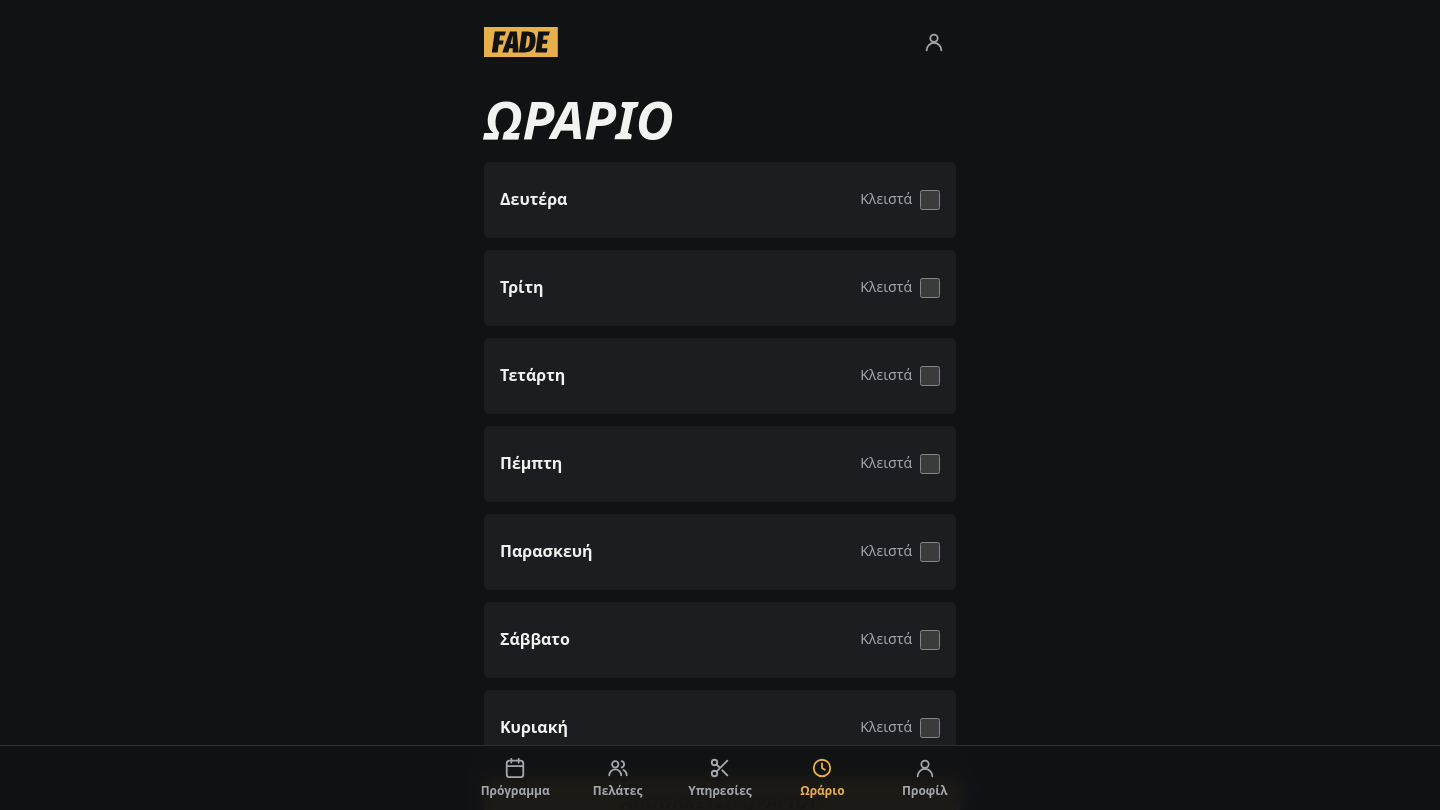
Test: saves a week with a split shift
The width and height of the screenshot is (1440, 810).
# A split day: 09:00–14:00, then "+ Προσθήκη ωρών" for the afternoon.
Click the switch named "Τρίτη: Ανοιχτά" at x=930, y=288, box [920,278,940,298]
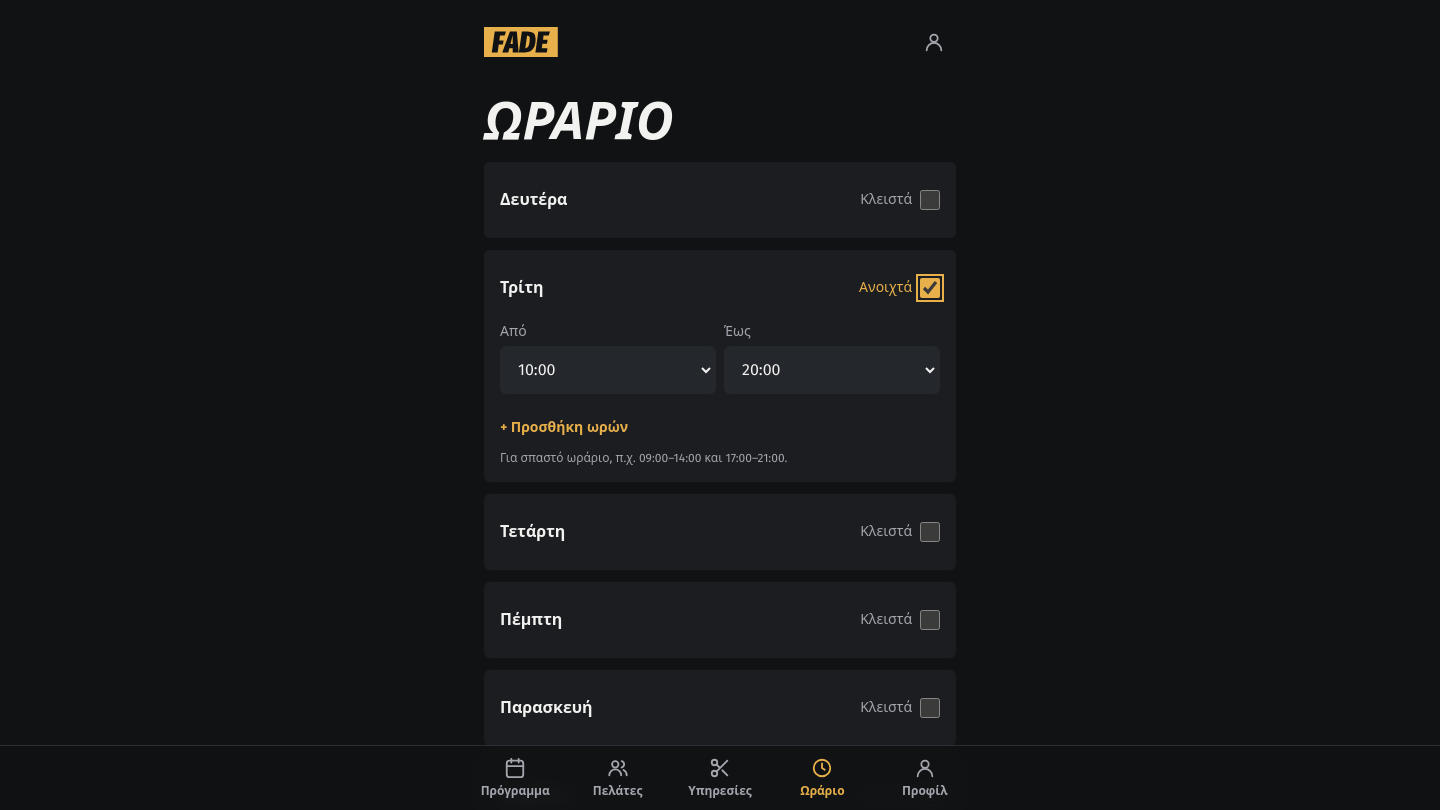
Select "09:00" in the dropdown labelled "Από" at x=608, y=370, box [500,346,716,394]
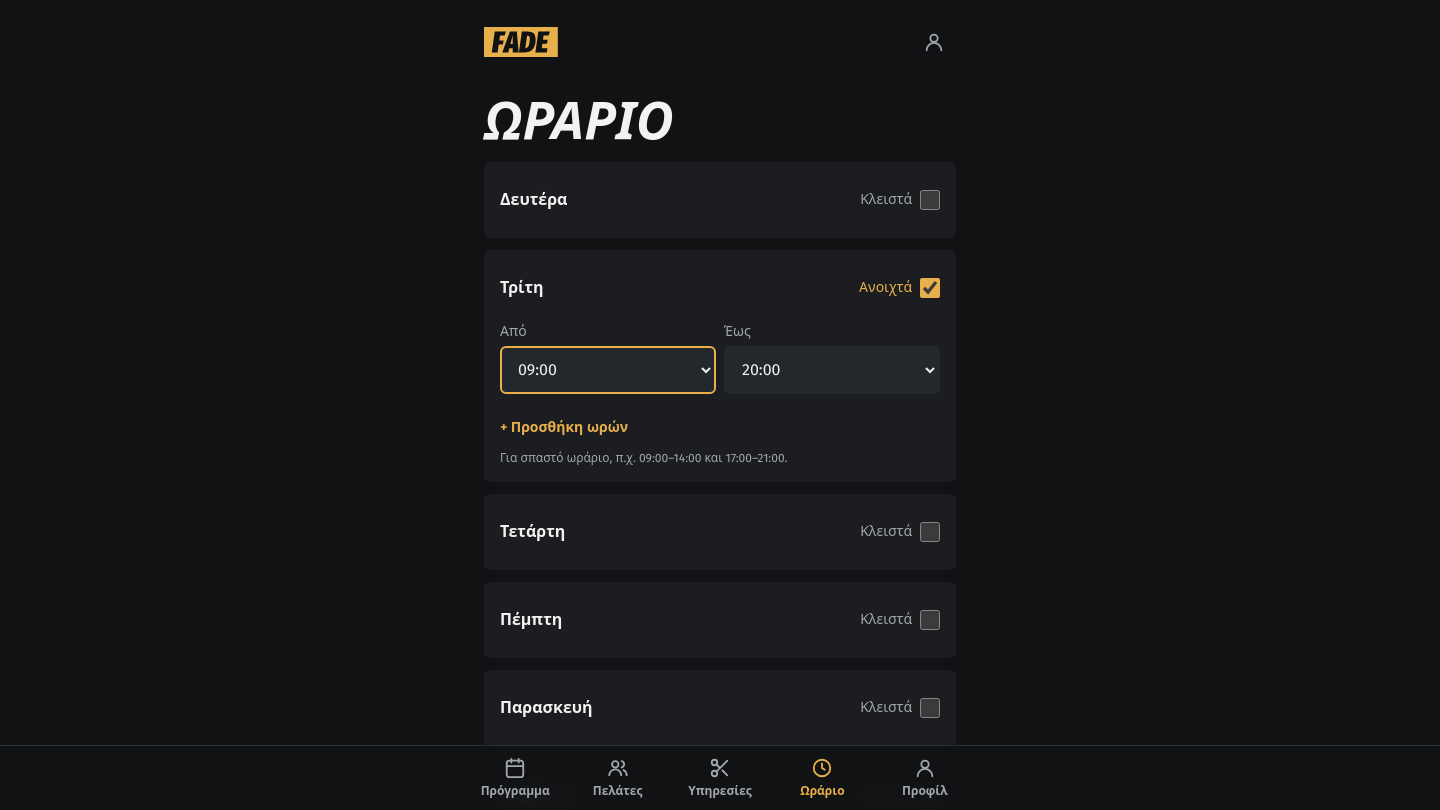
Select "14:00" in the dropdown labelled "Έως" at x=832, y=370, box [724,346,940,394]
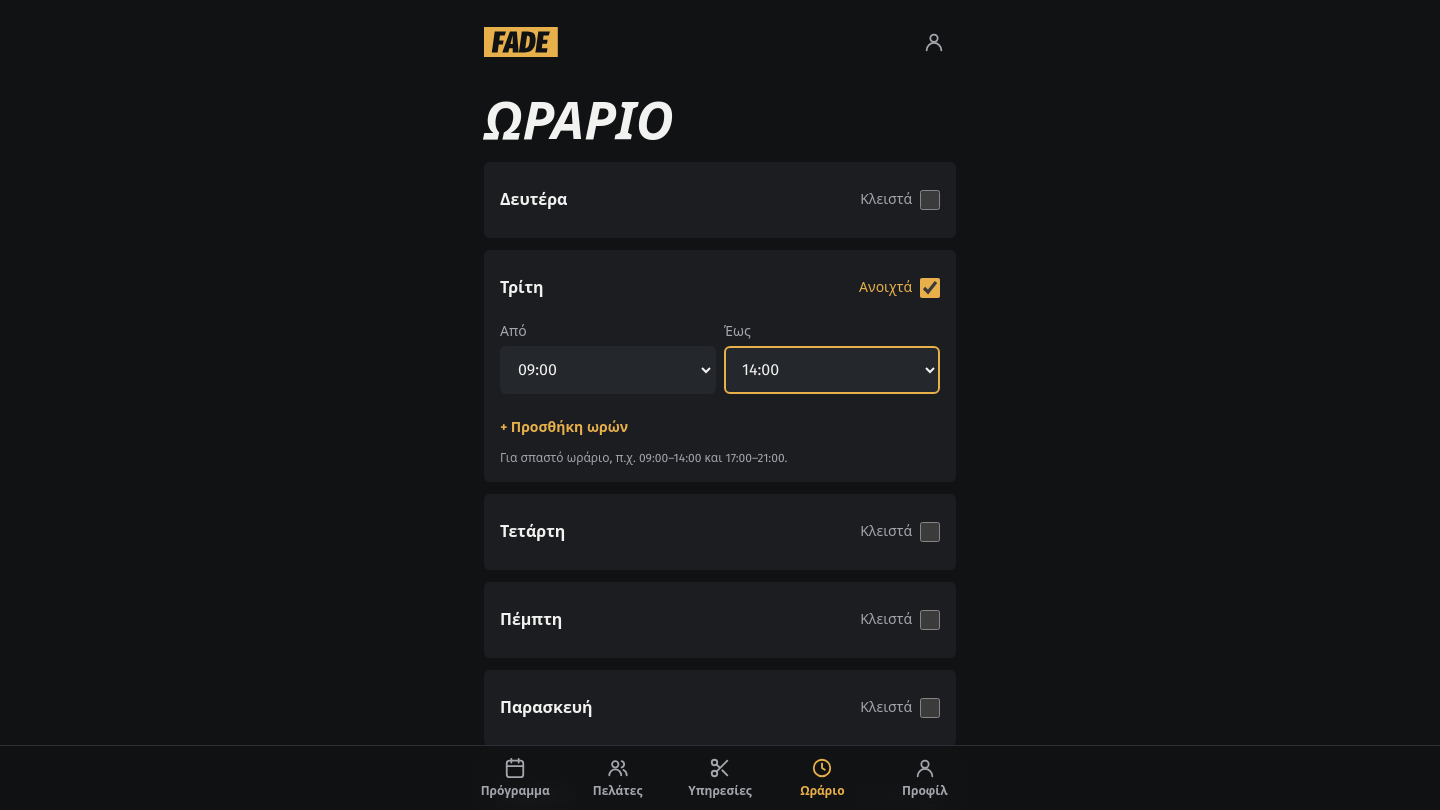
Click the button "+ Προσθήκη ωρών" at x=564, y=428, box [500,406,628,450]
(page scrolled)
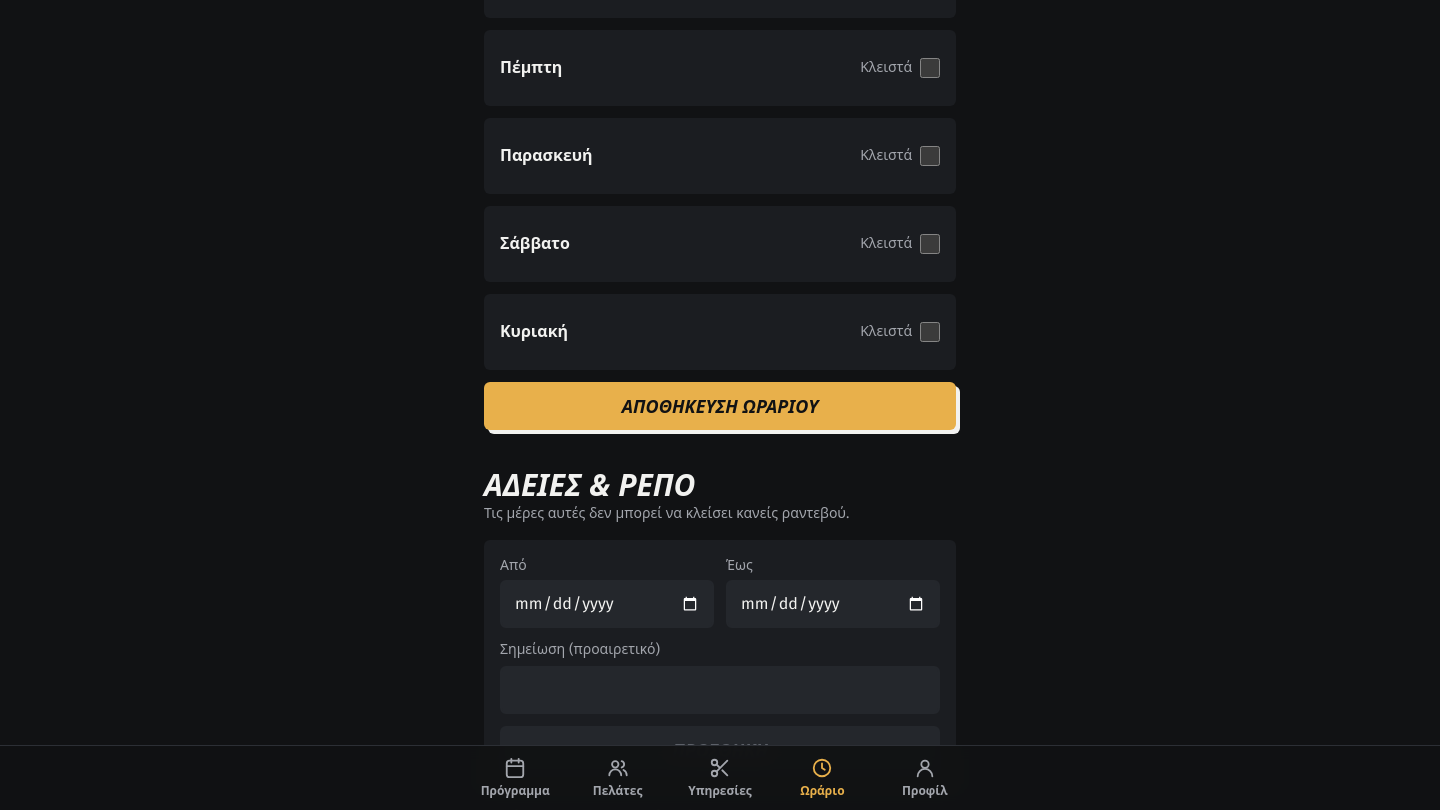
Click the button "Αποθήκευση ωραρίου" at x=720, y=406, box [484,382,956,430]
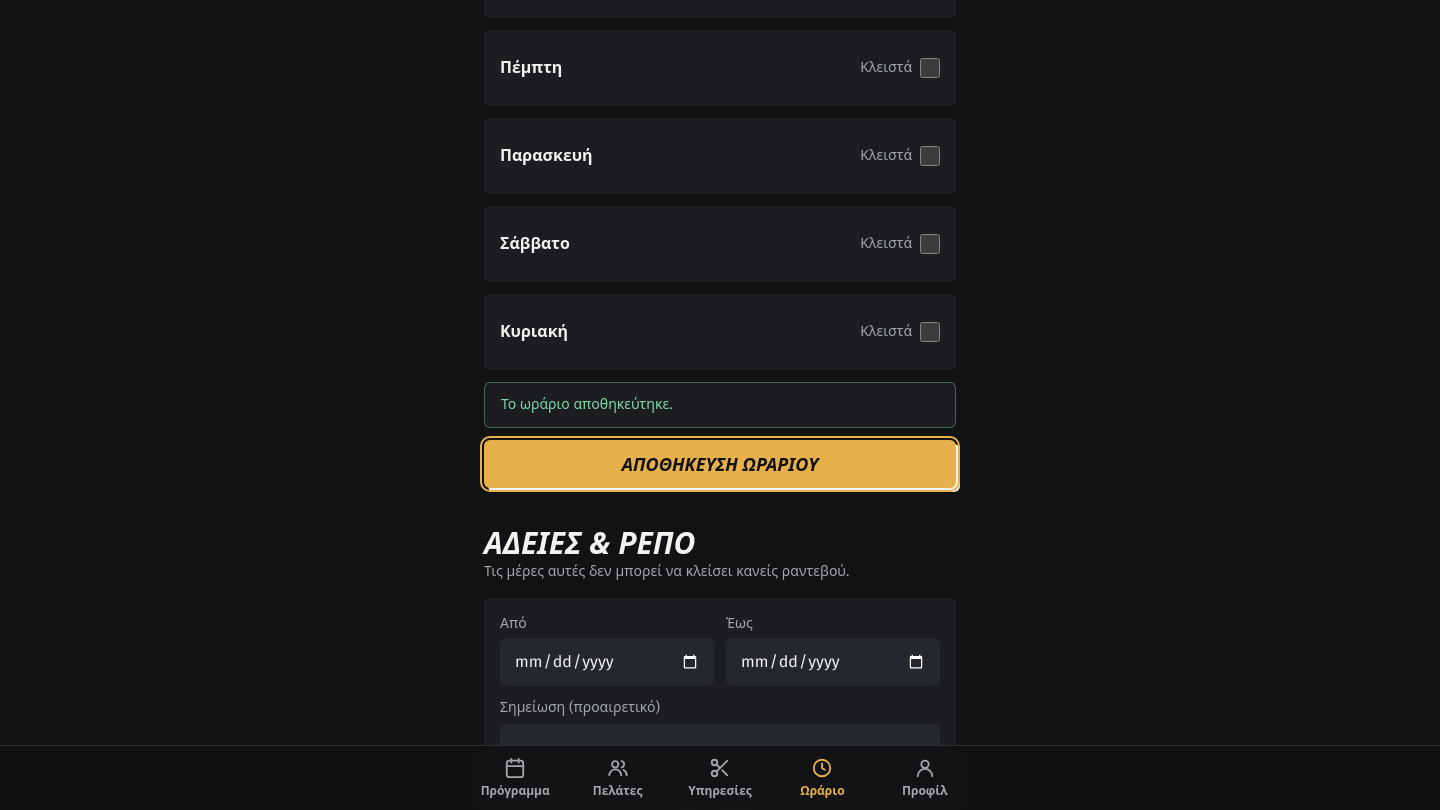
Expected: the text "Το ωράριο αποθηκεύτηκε." is shown, [484,382,956,428]
